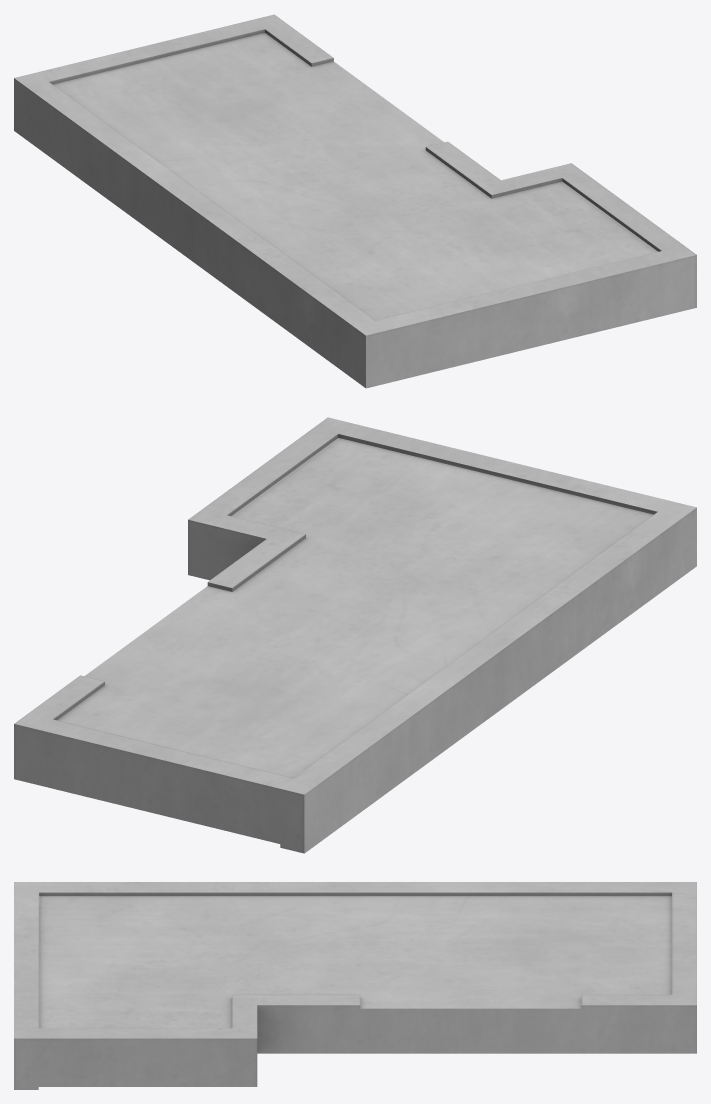
File: BetonblokTexture.glb
3 renders of one model, top to bottom at view 1: azimuth 30°, elevation 25°; view 2: azimuth 150°, elevation 25°; view 3: azimuth 270°, elevation 25°, orthographic. The views are drawn at different scales.
Visible parts, largest first — view 1: Betonblok; view 2: Betonblok; view 3: Betonblok.
Part boxes in pixels (x1,y1,x2,y2): Betonblok: (14,14,696,388); Betonblok: (14,417,696,853); Betonblok: (14,882,696,1089).
Bounding box in the file's own units: 3 × 0.4575 × 5.53.
Materials: 1 (1 with a texture image).
